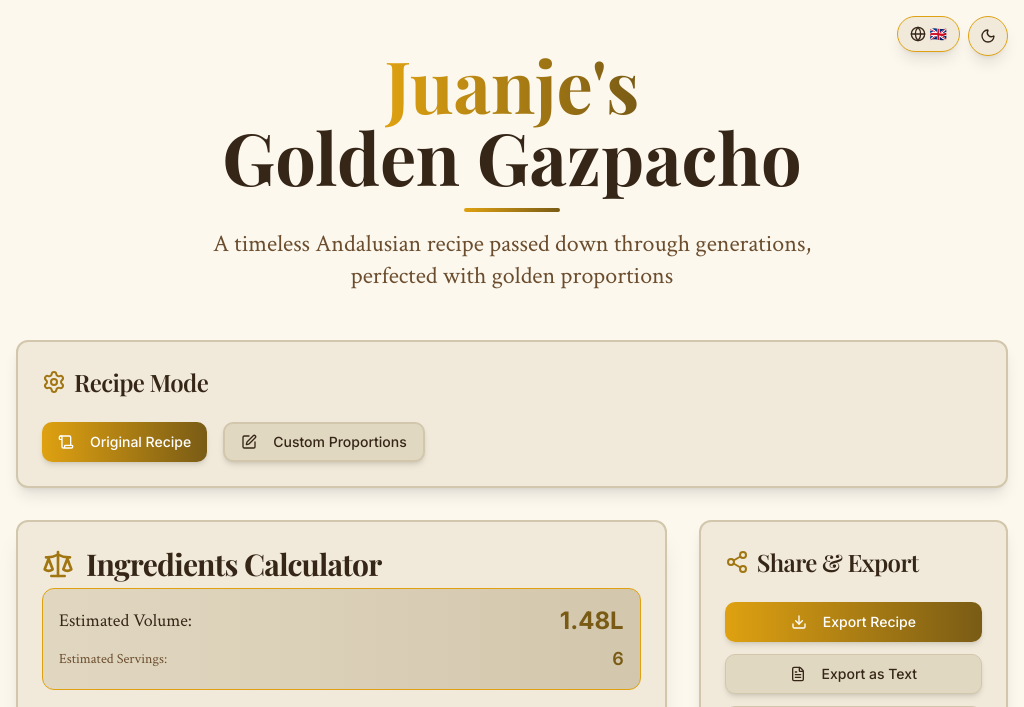
Test: Home › switching the language re-renders the subtitle in the chosen language
Click the button with test id "language-selector-button" at point(928, 34), box x1=896 y1=16 x2=960 y2=52
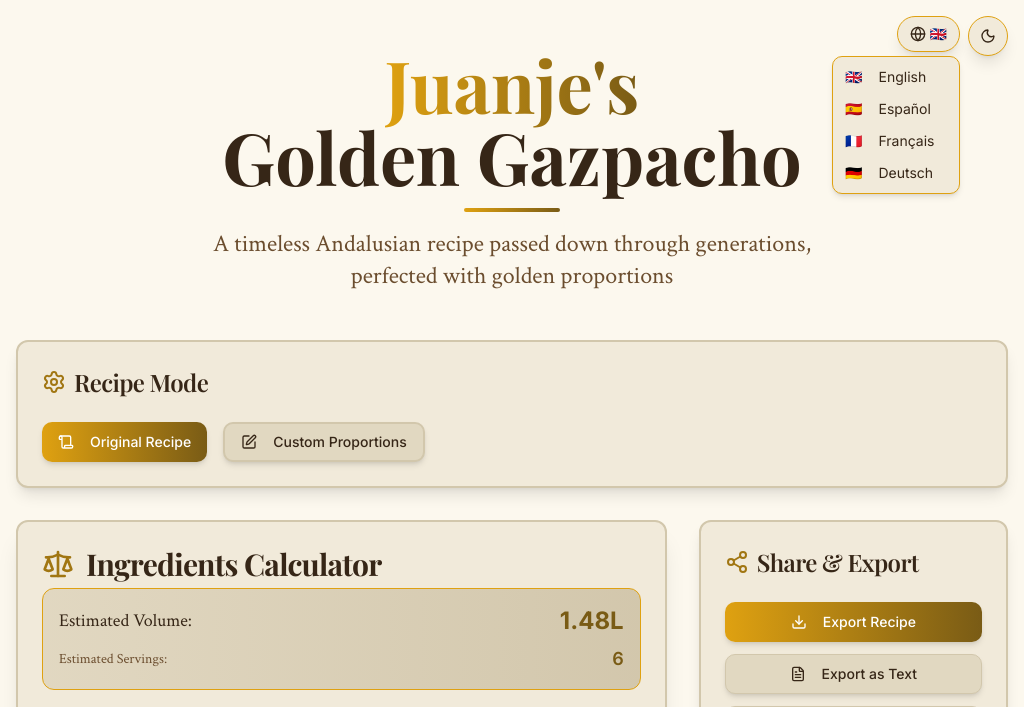
Click the menu item with test id "language-option-es" at point(888, 108), box x1=845 y1=100 x2=931 y2=117
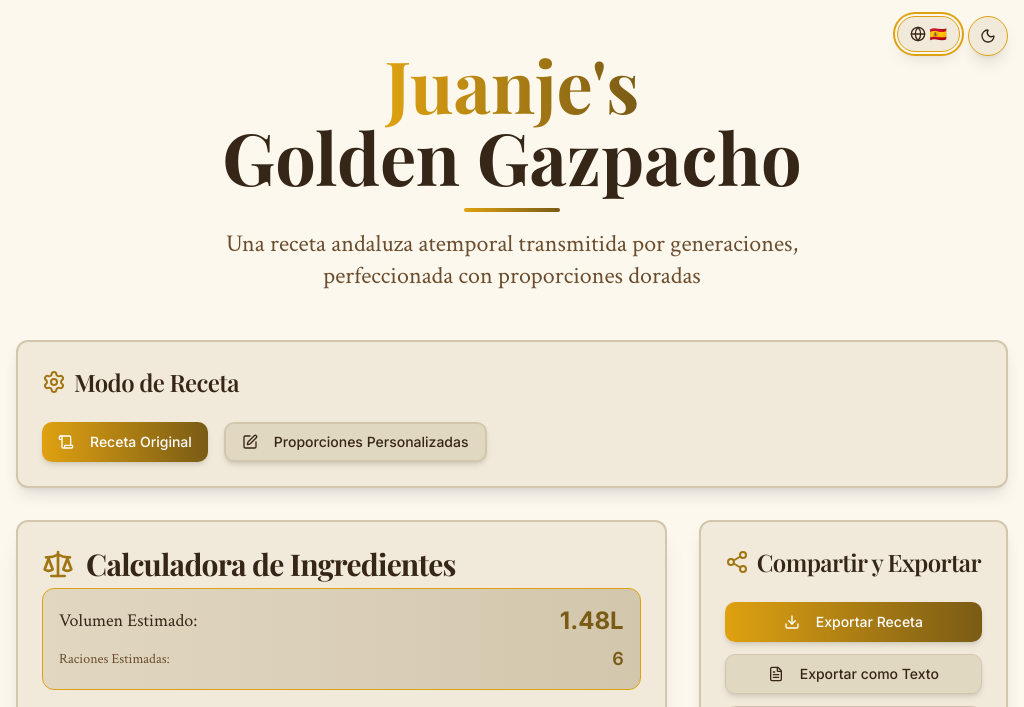
Result: the text "Una receta andaluza atemporal transmitida por generaciones, perfeccionada con proporciones doradas" is shown at x1=226 y1=228 x2=798 y2=291
